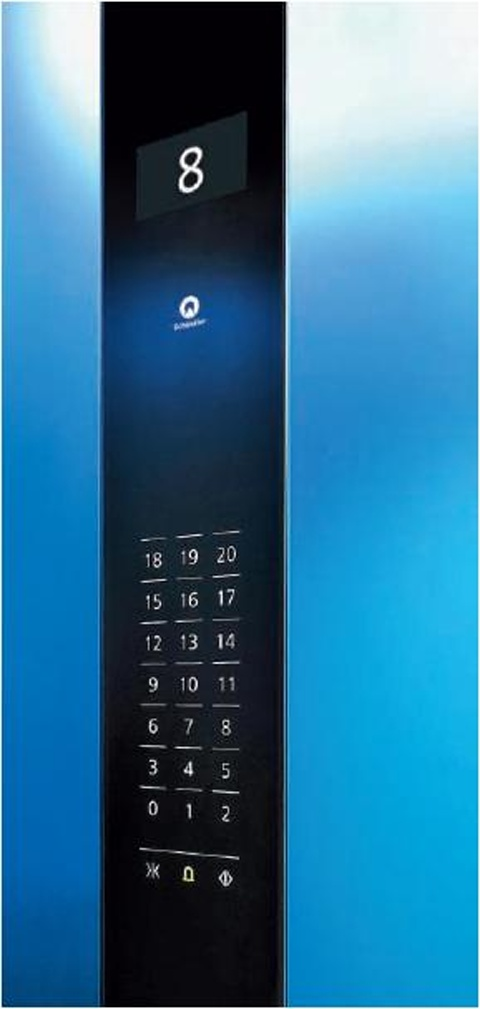0: (136, 783, 171, 832)
1: (172, 785, 207, 834)
10: (171, 660, 206, 709)
11: (208, 659, 243, 710)
12: (136, 619, 171, 668)
13: (172, 618, 207, 667)
14: (208, 616, 243, 667)
15: (136, 576, 171, 627)
16: (171, 575, 206, 626)
17: (208, 573, 243, 624)
18: (137, 535, 170, 585)
19: (172, 532, 205, 582)
2: (208, 788, 243, 837)
20: (207, 529, 242, 580)
3: (136, 743, 171, 792)
4: (172, 745, 207, 794)
5: (208, 747, 243, 796)
6: (136, 701, 171, 750)
7: (172, 702, 207, 751)
8: (208, 703, 243, 752)
9: (136, 660, 171, 709)
alarm: (171, 849, 206, 898)
close: (136, 845, 171, 894)
led: (130, 107, 250, 226)
open: (206, 852, 241, 901)
